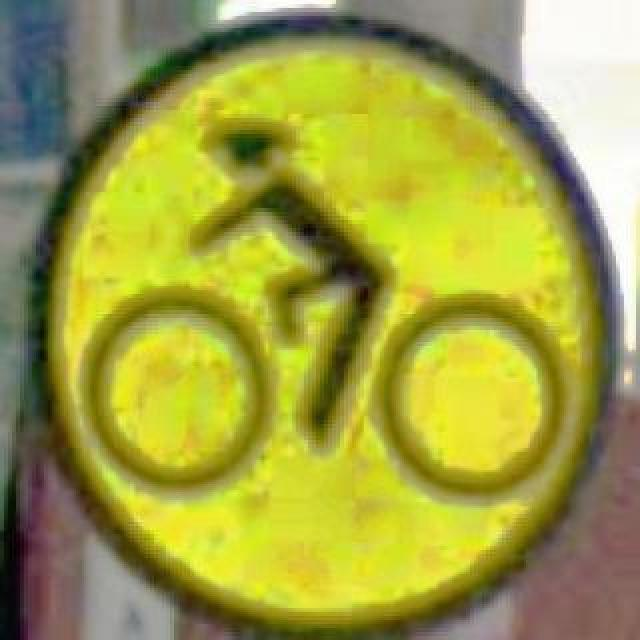bike lane: (24, 12, 616, 636)
